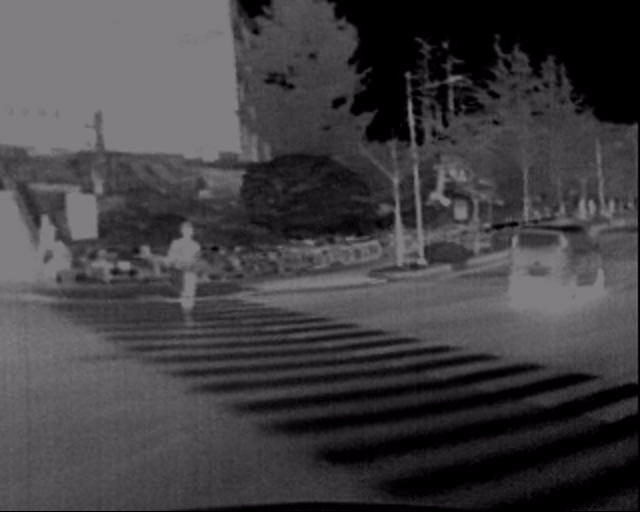person: (160, 217, 203, 322), (26, 218, 59, 293)
